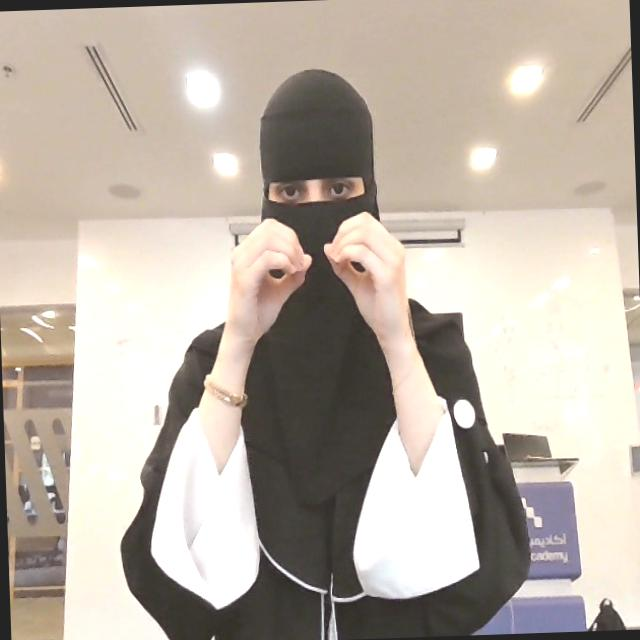analysis: (220, 207, 420, 348)
